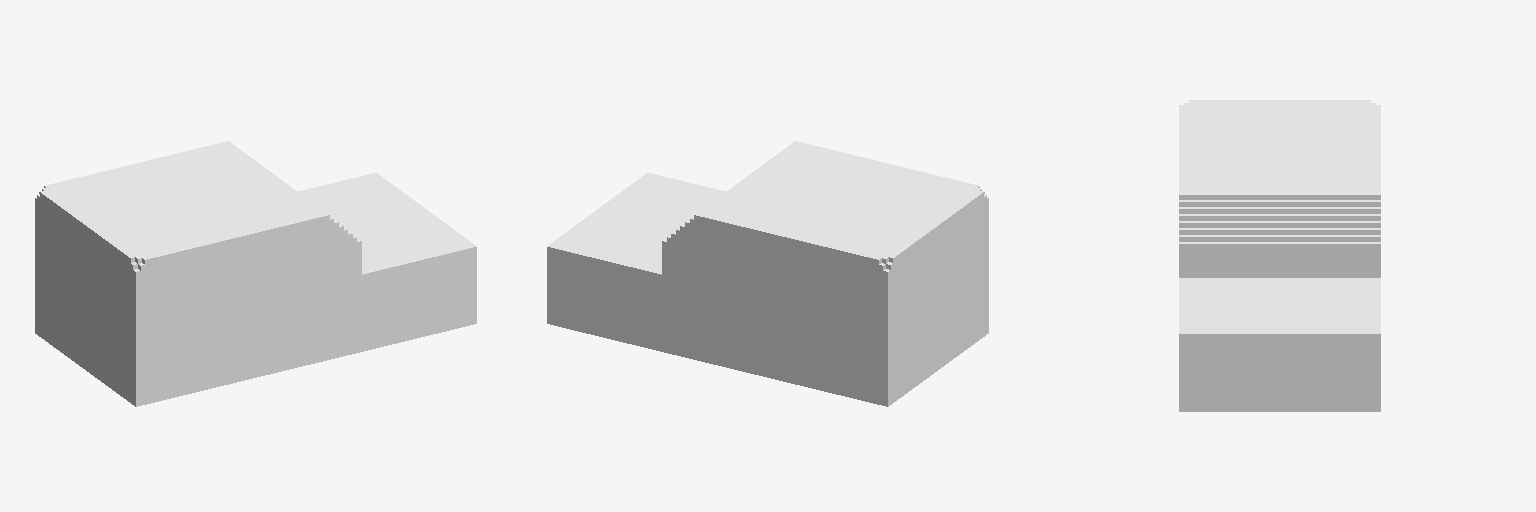
File: carmodel.obj
3 renders of one model, left to right at view 1: azimuth 30°, elevation 25°; view 2: azimuth 150°, elevation 25°; view 3: azimuth 270°, elevation 25°, orthographic.
Parts seen in each view (by area): view 1: object 1; view 2: object 1; view 3: object 1.
Part boxes in pixels (x1,y1,x2,y2): object 1: (35,141,476,406); object 1: (547,141,988,406); object 1: (1179,100,1380,411).
Bounding box in the file's own units: 7.4 × 3 × 3.8.